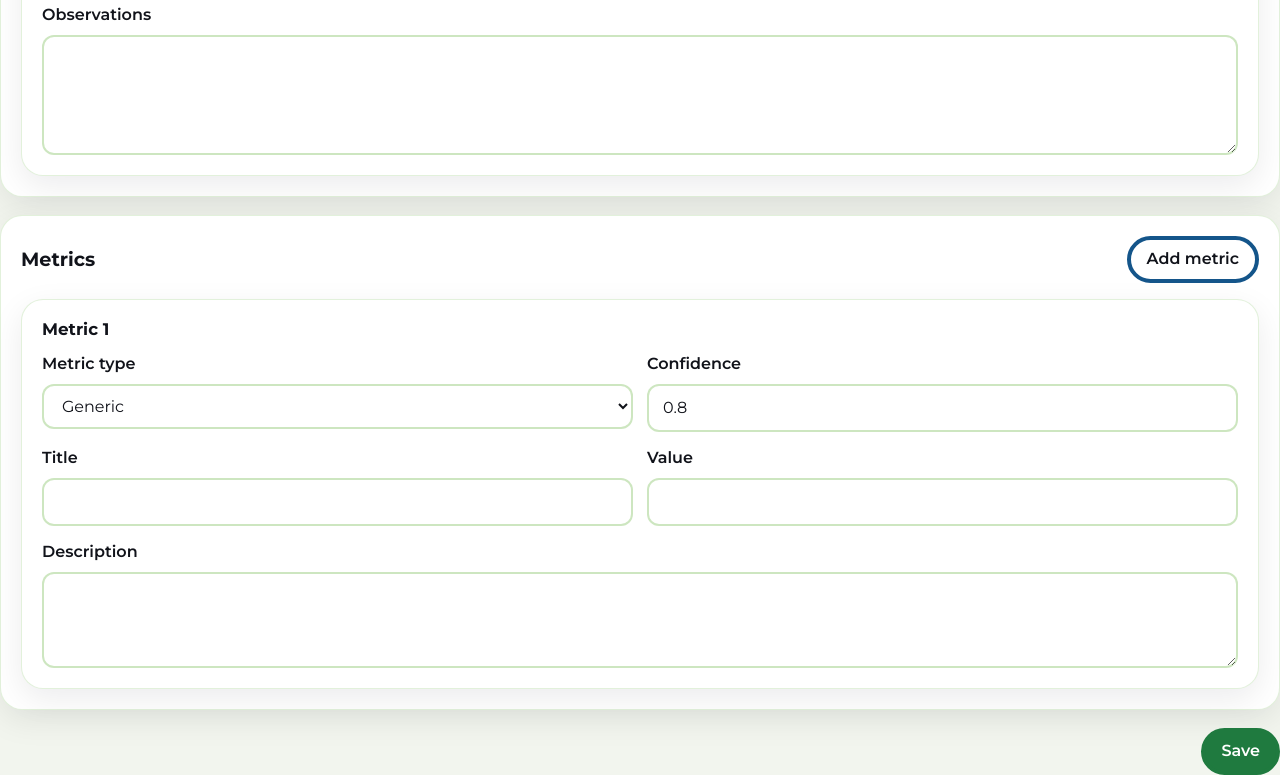
Scenario: PracticeForm Component › Metrics Section - Edit Mode Only › changes metric type and shows energy-specific fields
(page scrolled)
Select "Energy" in the dropdown labelled "Metric type" at (338, 406), box 42,384 -> 633,429
(page scrolled)
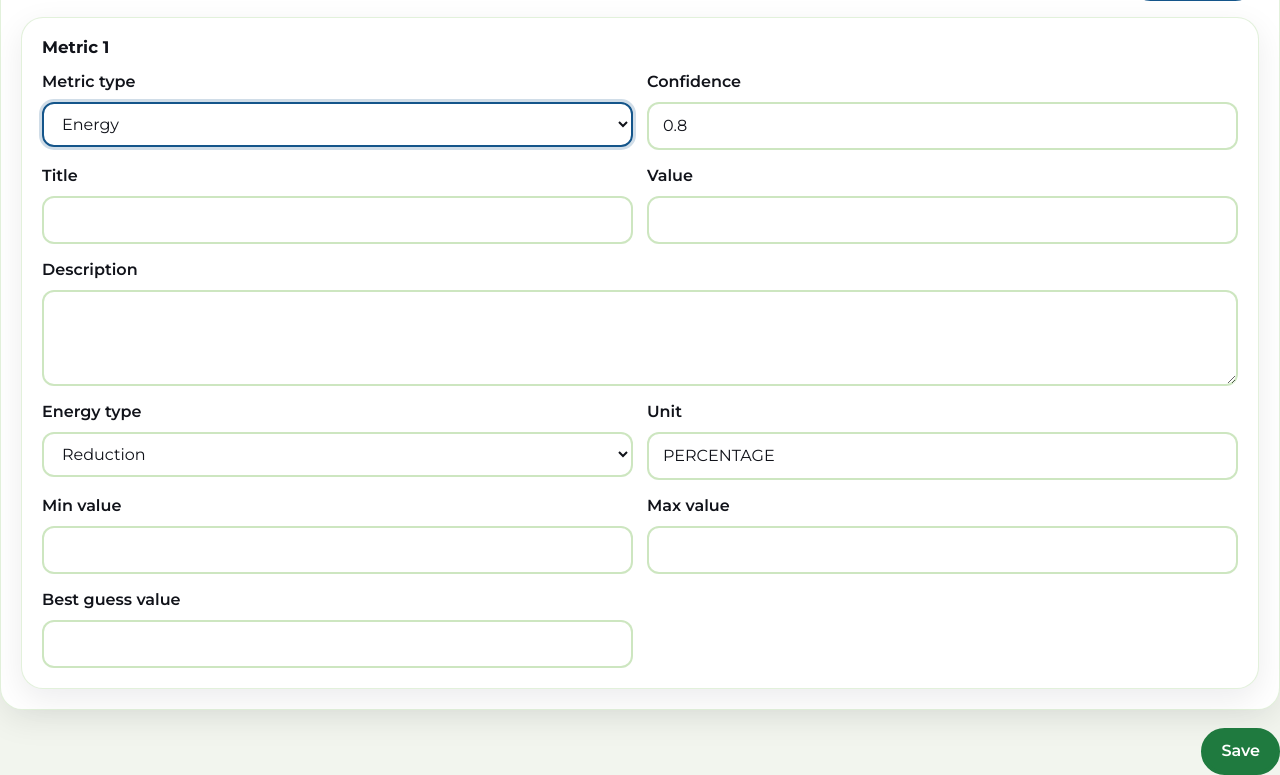
Check: the dropdown labelled "Energy type" is shown, box 42,432 -> 633,477
Check: the field labelled "Unit" is shown, box 647,432 -> 1238,480
Check: the number field labelled "Min value" is shown, box 42,526 -> 633,574
